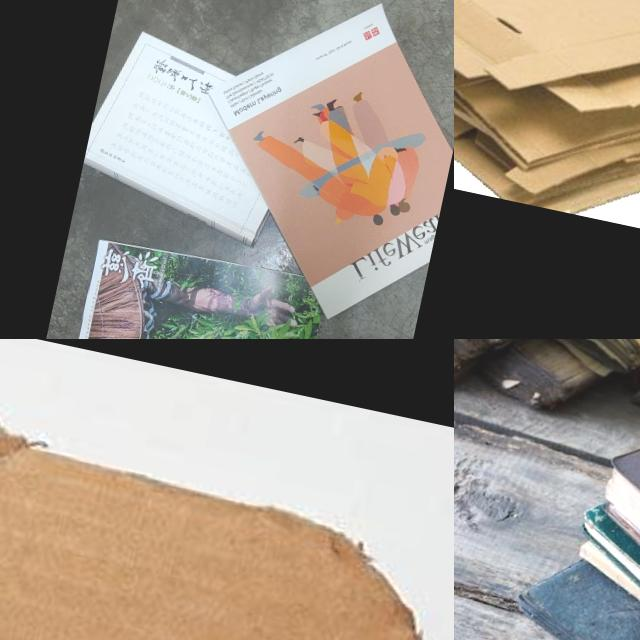papel: (179, 0, 454, 335), (75, 22, 304, 246), (497, 353, 640, 640), (54, 227, 338, 339)
papelão: (0, 417, 454, 640), (454, 0, 640, 275)
